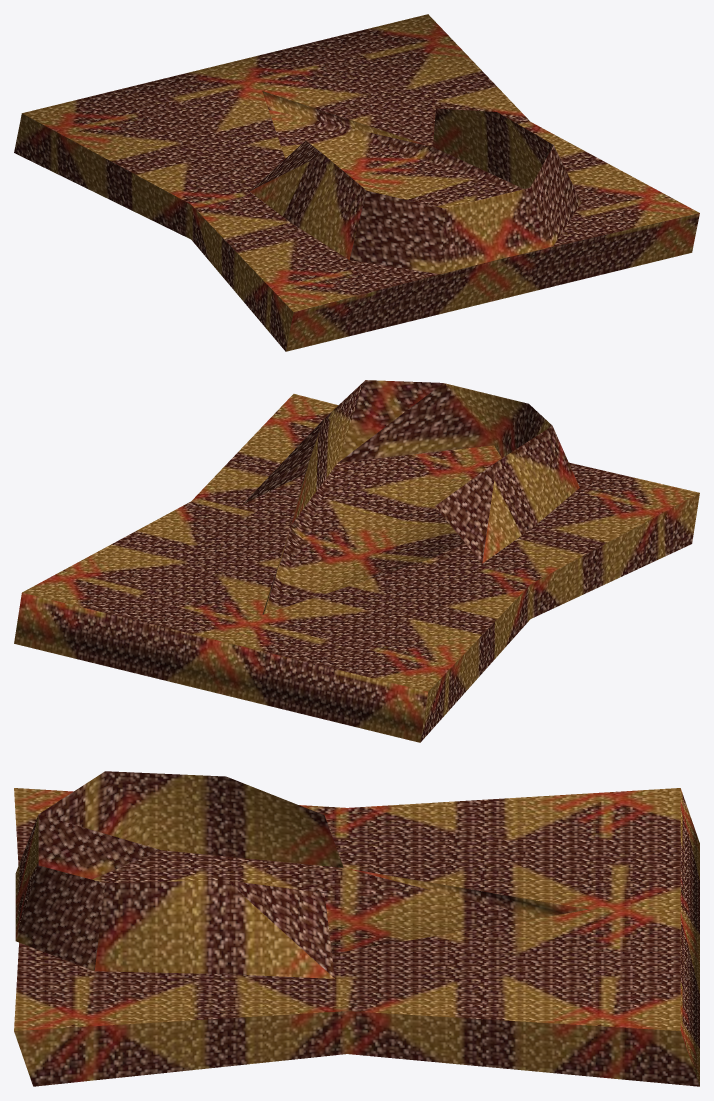
File: shirt.gltf
3 renders of one model, top to bottom at view 1: azimuth 30°, elevation 25°; view 2: azimuth 150°, elevation 25°; view 3: azimuth 270°, elevation 25°, orthographic. The views are drawn at different scales.
Visible parts, largest first — view 1: Shirt; view 2: Shirt; view 3: Shirt.
Boxes of the visible parts, left/top/right/bottom form: Shirt: left=14, top=14, right=699, bottom=351; Shirt: left=14, top=380, right=699, bottom=742; Shirt: left=14, top=771, right=699, bottom=1086.
Bounding box in the file's own units: 0.328 × 0.087 × 0.391.
4 materials, 4 textured.
